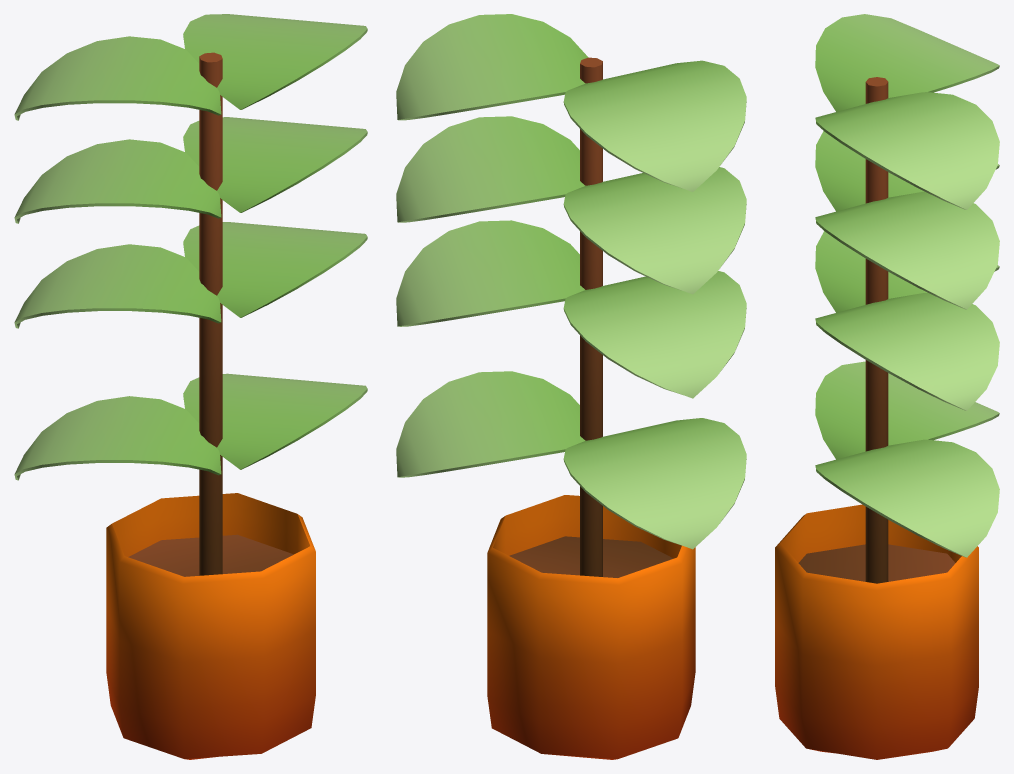
The model's file is OfficePlant.fbx.
The picture shows the model from 3 angles, left to right: view 1: azimuth 30°, elevation 25°; view 2: azimuth 150°, elevation 25°; view 3: azimuth 270°, elevation 25°; orthographic projection. The views are drawn at different scales.
Parts seen in each view (by area): view 1: Cube; view 2: Cube; view 3: Cube.
Part boxes in pixels (x1=…): Cube: x1=14, y1=14, x2=367, y2=759; Cube: x1=396, y1=14, x2=746, y2=759; Cube: x1=775, y1=14, x2=999, y2=759.
Size of the model in its own units: 31.52 by 61.34 by 19.12.
